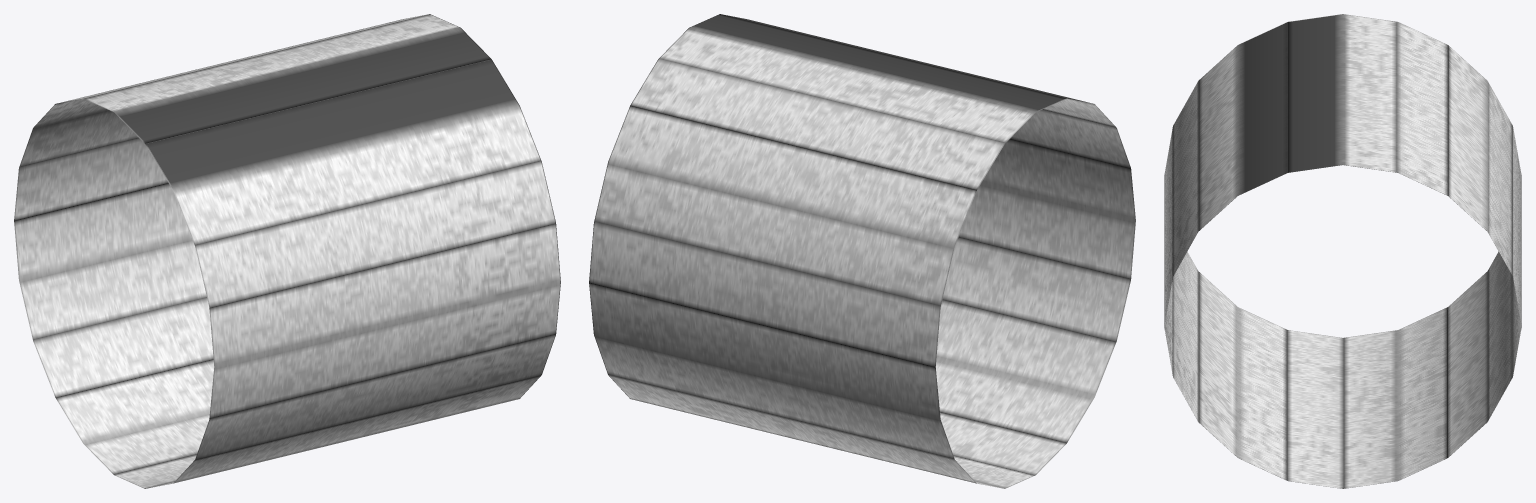
File: Pad_MidSection.obj
3 views of the same model, side by side, from view 1: azimuth 30°, elevation 25°; view 2: azimuth 150°, elevation 25°; view 3: azimuth 270°, elevation 25° (orthographic). The views are drawn at different scales.
Parts seen in each view (by area): view 1: default; view 2: default; view 3: default.
Part boxes in pixels (x1=…): default: x1=14, y1=14, x2=560, y2=488; default: x1=589, y1=14, x2=1135, y2=488; default: x1=1164, y1=14, x2=1521, y2=488.
Size of the model in its own units: 1 by 1 by 1.
